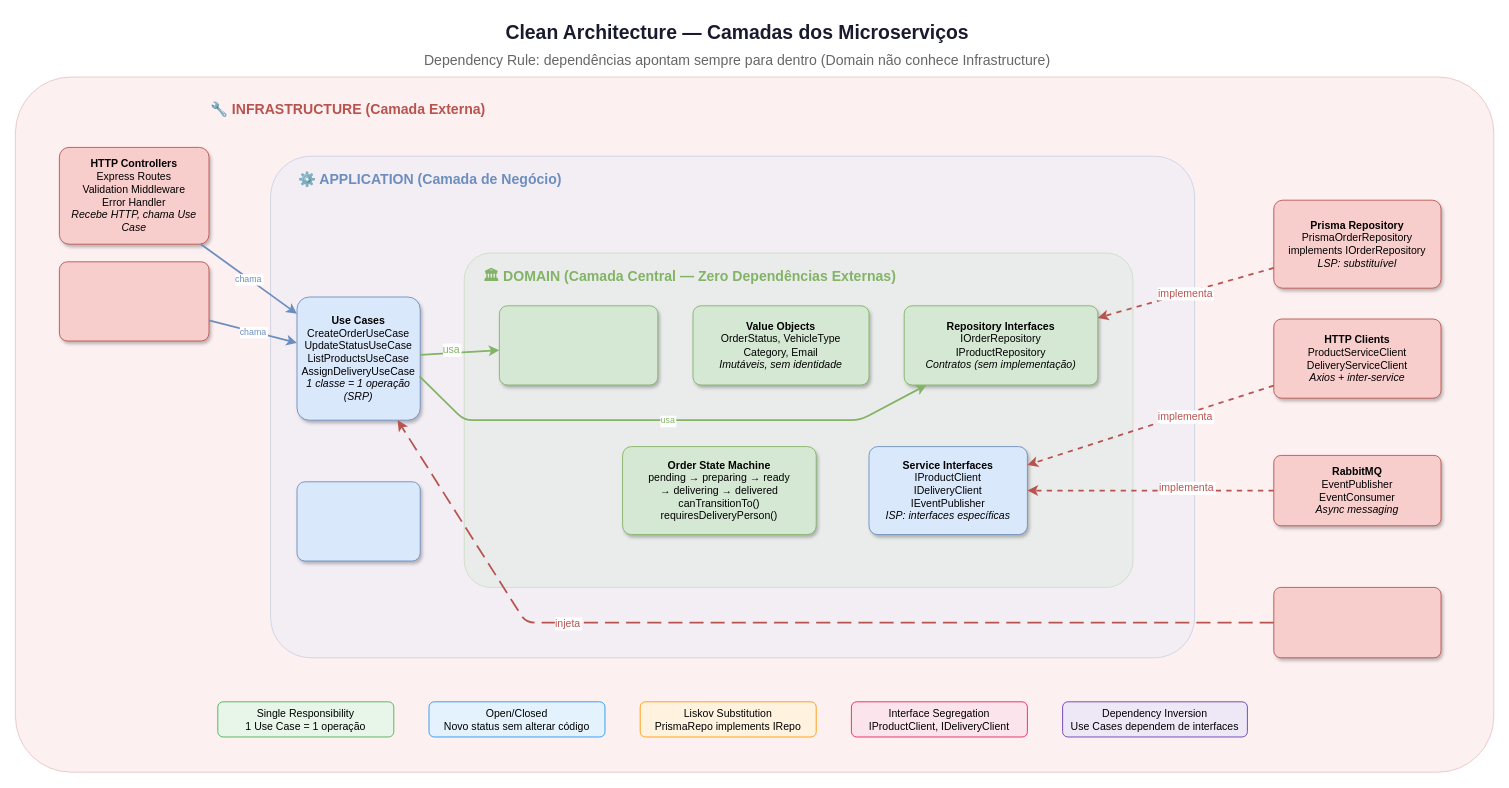
Some shapes in this 1509 by 788 pixel diagram are drawn without their labels. The centre of each missing label's shape, as x and y in pixels:
DI Container createContainer() Injeta implementações nas interfaces (DIP): the point at 1357,623
DTOs CreateOrderDTO UpdateStatusDTO Validação Zod: the point at 359,522
Entities Order, Product, User DeliveryPerson Regras de negócio puras: the point at 579,346
Lambda Handlers 20 functions 1 handler per use case AWS Lambda entry point: the point at 134,302
